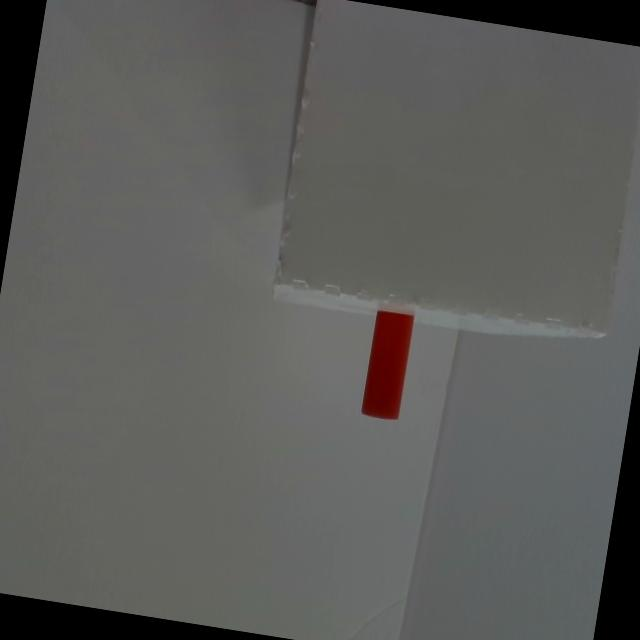red_cylinder: (360, 310, 414, 421)
